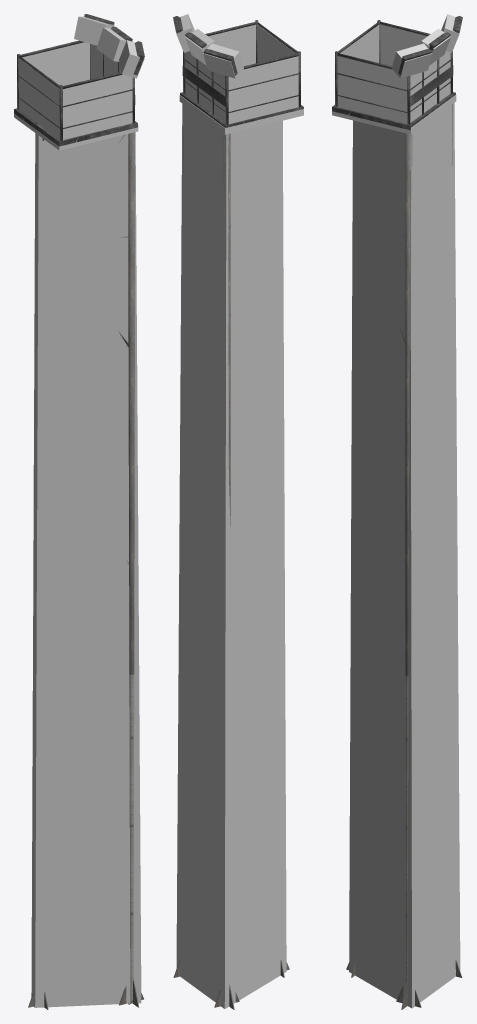
Rendered from floodlight_tower.fbx.
The picture shows the model from 3 angles, left to right: view 1: azimuth 30°, elevation 25°; view 2: azimuth 210°, elevation 25°; view 3: azimuth 330°, elevation 25°; orthographic projection.
Parts seen in each view (by area): view 1: px_floodlight_tower_mesh, floodlight_tower_mesh; view 2: px_floodlight_tower_mesh, floodlight_tower_mesh; view 3: px_floodlight_tower_mesh, floodlight_tower_mesh.
Part boxes in pixels (<box>): px_floodlight_tower_mesh: <box>14,16,144,1007</box>; floodlight_tower_mesh: <box>14,14,144,1009</box>; px_floodlight_tower_mesh: <box>173,14,303,1008</box>; floodlight_tower_mesh: <box>173,16,303,1009</box>; px_floodlight_tower_mesh: <box>332,14,462,1008</box>; floodlight_tower_mesh: <box>332,16,462,1009</box>.
Bounding box in the file's own units: 0.955 × 8.73 × 0.9593.
4 materials, 4 textured.
